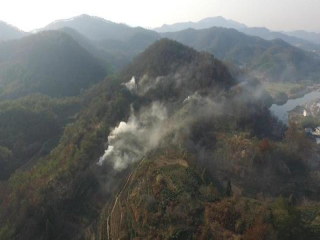smoke: (96, 73, 188, 172)
